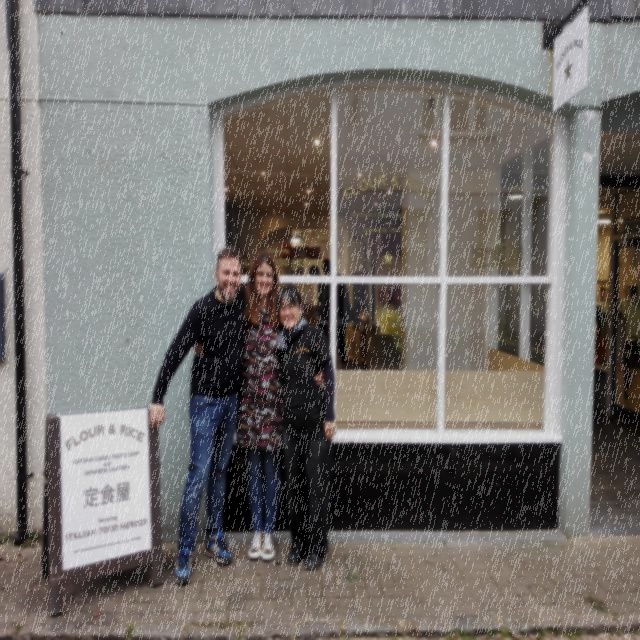pessoa: (191, 250, 327, 564), (148, 244, 248, 587), (273, 284, 337, 572), (322, 258, 354, 372), (308, 264, 326, 333), (380, 284, 402, 308)
